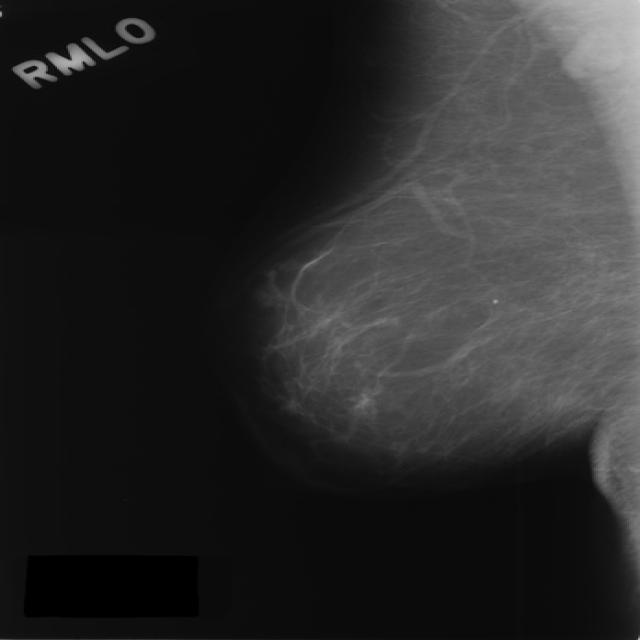tumour: (250, 281, 283, 305)
